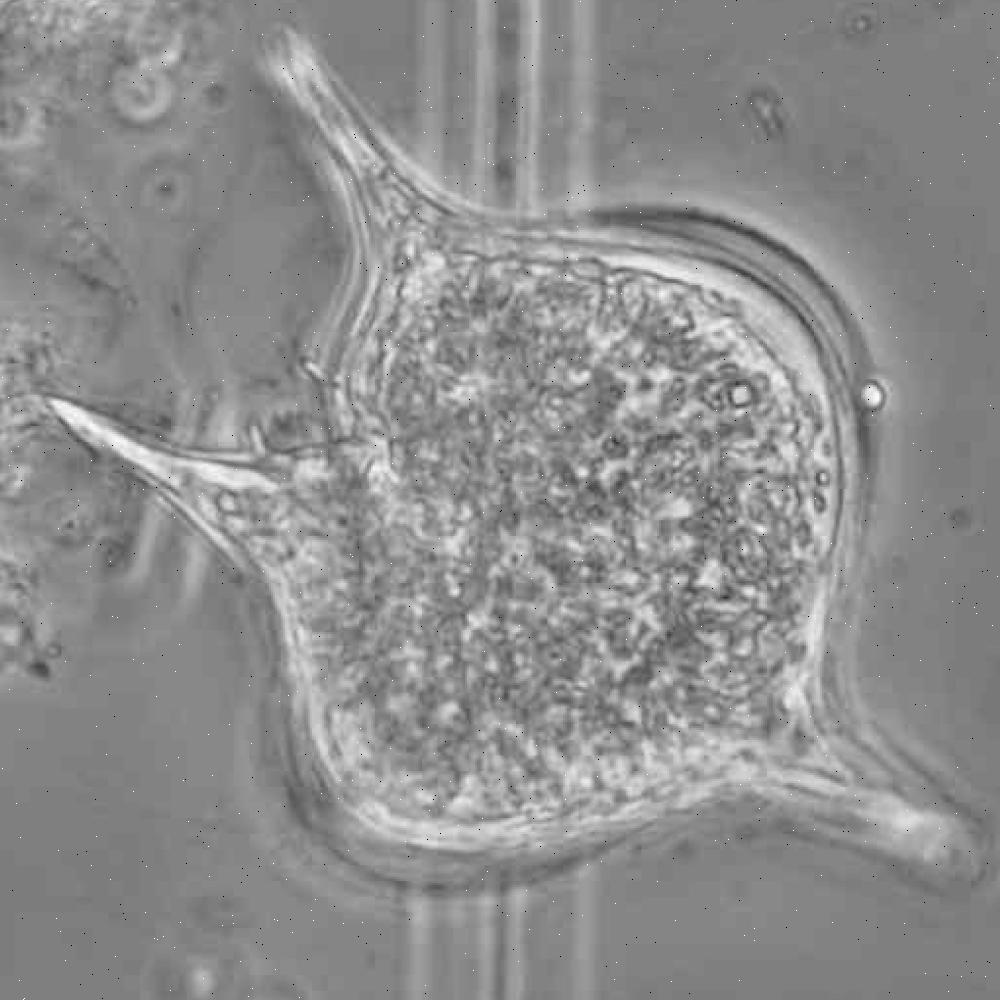protoperidinium_oceanicum: (46, 19, 991, 891)
